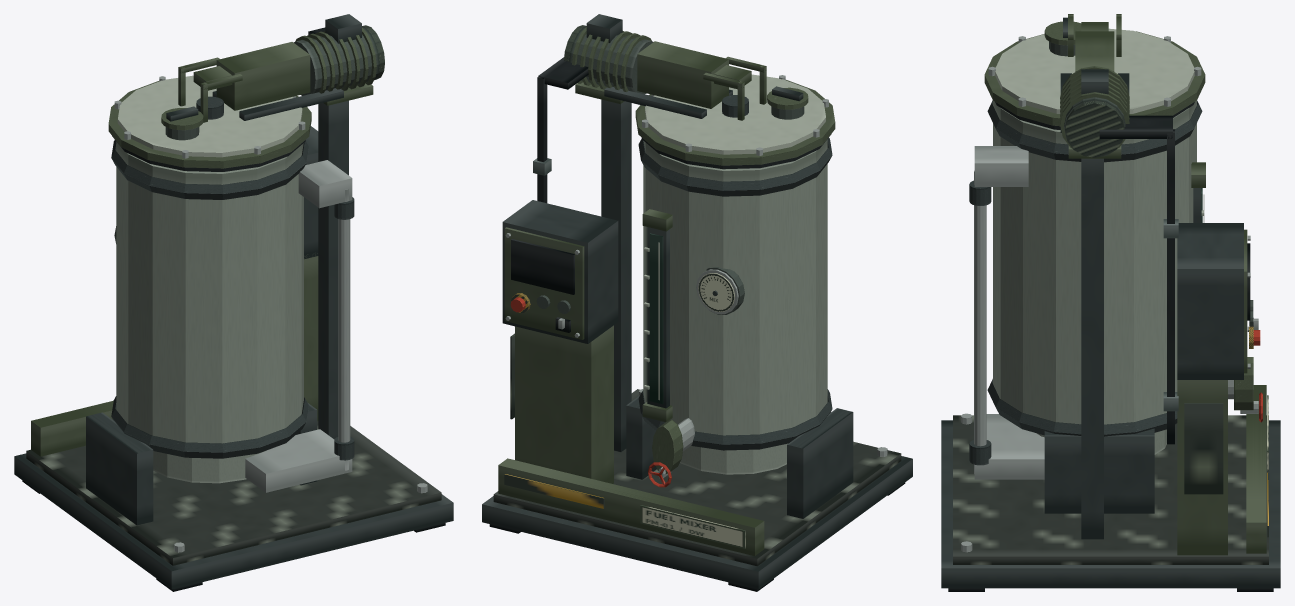
File: fm01_static.obj
3 views of the same model, side by side, from view 1: azimuth 30°, elevation 25°; view 2: azimuth 150°, elevation 25°; view 3: azimuth 270°, elevation 25° (orthographic). The views are drawn at different scales.
Parts seen in each view (by area): view 1: tank_main_shell, raised_deck, bottom_skid, raised_lid, motor_support, tank_leg_-6.5, drive_gearbox, rear_pipe_lower_link, tank_band_10.9, tank_band_4.45, lid_flange, rear_vertical_pipe (+9 smaller); view 2: tank_main_shell, control_pedestal, raised_deck, bottom_skid, raised_lid, front_apron, motor_support, control_housing, tank_leg_-6.5, drive_gearbox, control_face, tank_band_10.9 (+17 smaller); view 3: tank_main_shell, raised_deck, bottom_skid, control_housing, motor_support, raised_lid, tank_leg_2.4, control_pedestal, side_vent, rear_pipe_lower_link, front_apron, rear_vertical_pipe (+15 smaller).
Part boxes in pixels (x1,y1,x2,y2): tank_main_shell: (116, 142, 303, 443); raised_deck: (26, 421, 441, 565); bottom_skid: (14, 453, 453, 589); raised_lid: (117, 75, 302, 157); motor_support: (318, 100, 348, 438); tank_leg_-6.5: (86, 412, 153, 525); drive_gearbox: (216, 42, 310, 110); rear_pipe_lower_link: (245, 429, 352, 492); tank_band_10.9: (111, 140, 308, 199); tank_band_4.45: (111, 396, 308, 458); lid_flange: (108, 81, 311, 168); rear_vertical_pipe: (338, 189, 350, 470); tank_main_shell: (643, 139, 827, 435); control_pedestal: (515, 325, 613, 483); raised_deck: (493, 389, 901, 566); bottom_skid: (482, 456, 912, 589); raised_lid: (645, 74, 825, 154); front_apron: (498, 458, 764, 555); motor_support: (601, 99, 631, 451); control_housing: (502, 200, 618, 343); tank_leg_-6.5: (787, 408, 853, 518); drive_gearbox: (637, 41, 728, 108); control_face: (504, 227, 584, 339); tank_band_10.9: (638, 138, 832, 196); tank_main_shell: (993, 100, 1196, 424); raised_deck: (953, 415, 1268, 564); bottom_skid: (941, 420, 1280, 588); control_housing: (1177, 223, 1243, 379); motor_support: (1081, 158, 1103, 539); raised_lid: (995, 28, 1194, 113); tank_leg_2.4: (1044, 428, 1154, 513); control_pedestal: (1177, 380, 1227, 555); side_vent: (1184, 403, 1223, 494); rear_pipe_lower_link: (974, 414, 1044, 479); front_apron: (1246, 385, 1266, 553); rear_vertical_pipe: (974, 170, 986, 474).
Bounding box in the file's own units: 0.9562 × 1.5 × 0.925.
